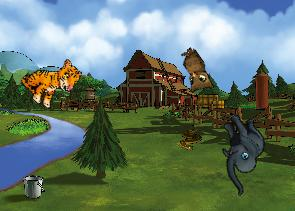elephant: (198, 107, 284, 196)
owl: (169, 45, 218, 99)
tiger: (16, 45, 85, 115)
